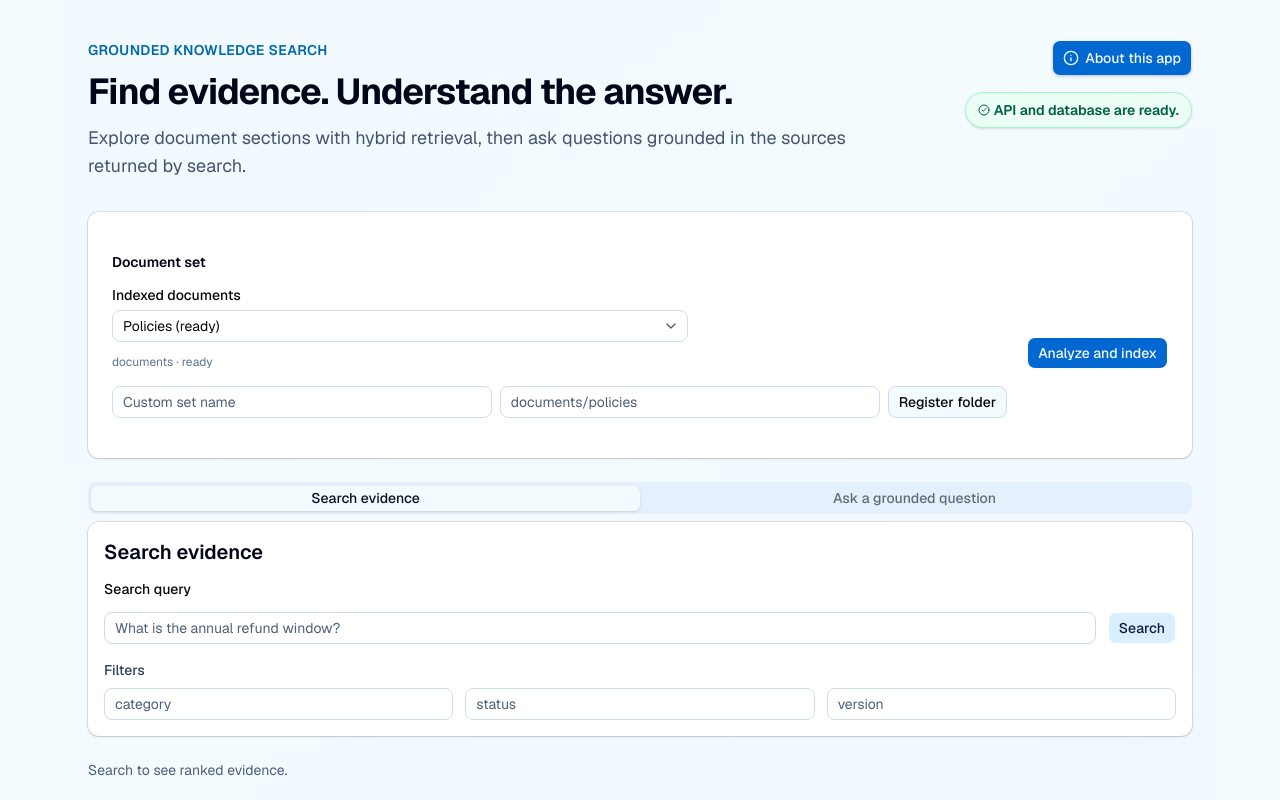
Test: KnowledgeSearchApp › indexes only the selected custom document set
This screenshot has width=1280, height=800.
What coordinates should you click on to do the following:
click the dropdown named "Indexed documents"
I would click on:
 (148, 326)
Its box is x1=112 y1=310 x2=688 y2=342.
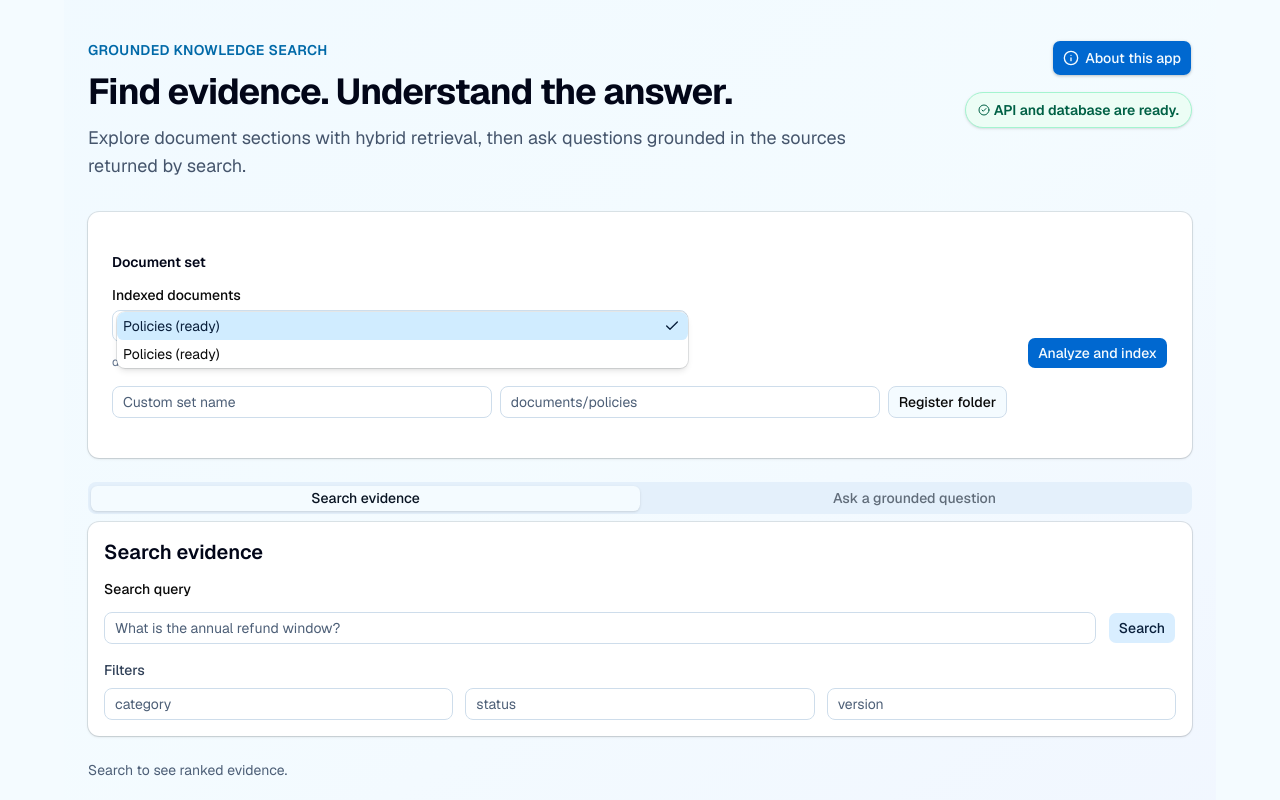
What coordinates should you click on to do the following:
click the 2nd option "Policies (ready)"
I would click on:
 (171, 354)
Its box is x1=123 y1=345 x2=220 y2=363.
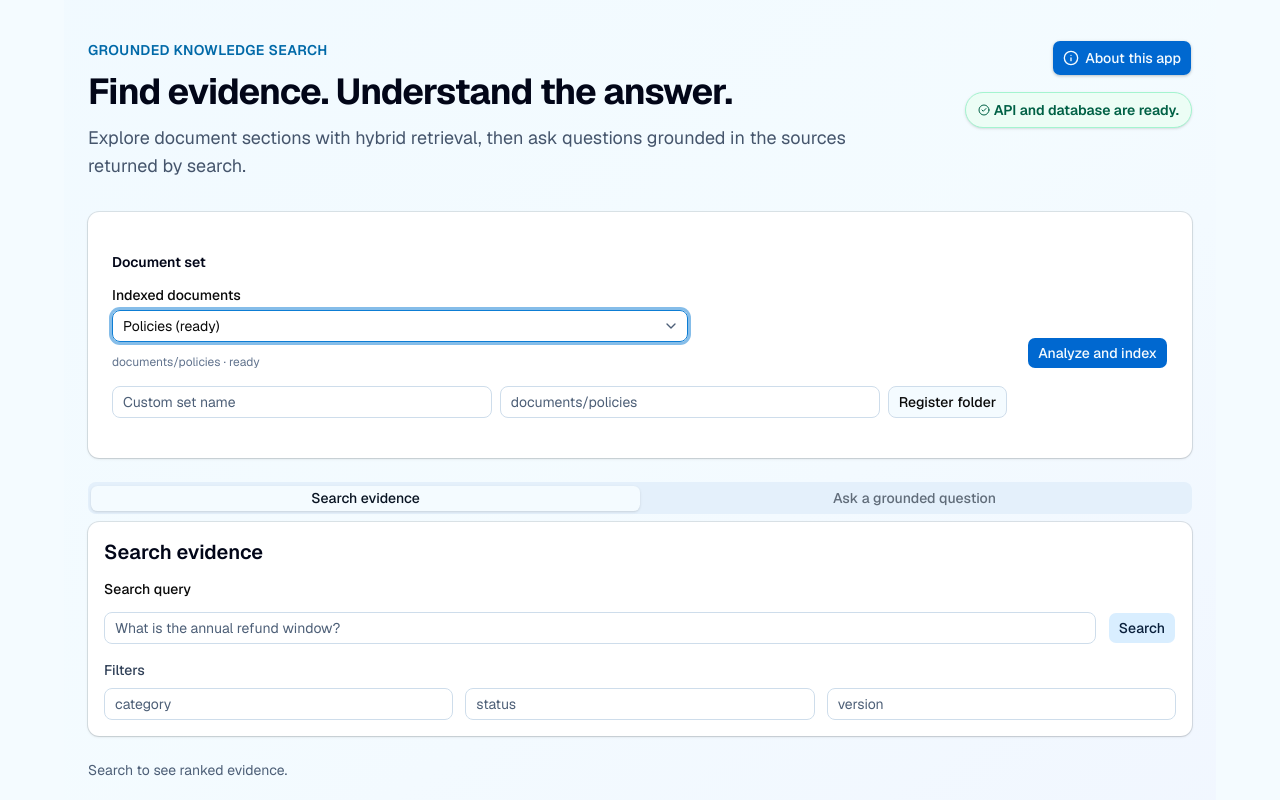
What coordinates should you click on to do the following:
click the button "Analyze and index"
I would click on:
 (1098, 353)
Its box is x1=1027 y1=337 x2=1168 y2=369.
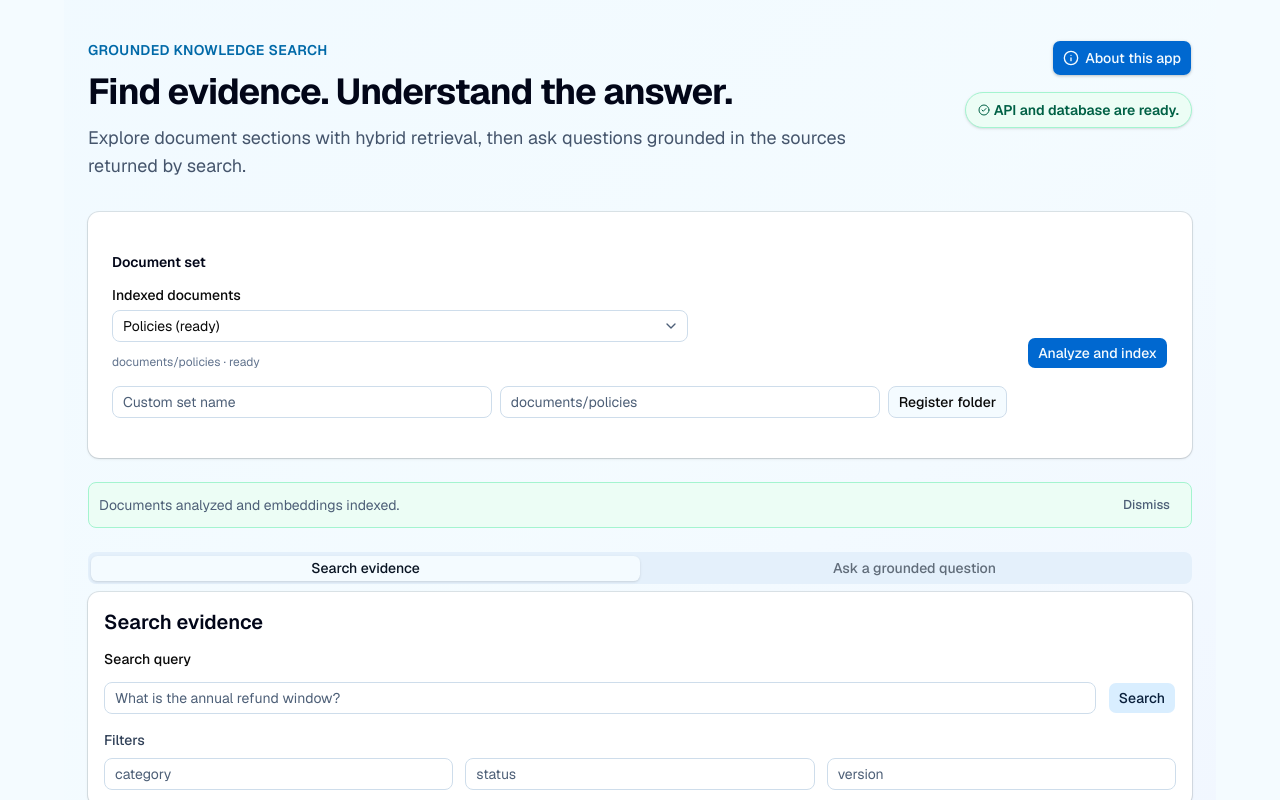
Expected: the text "Documents analyzed and embeddings indexed." is shown, x1=99 y1=495 x2=399 y2=515
